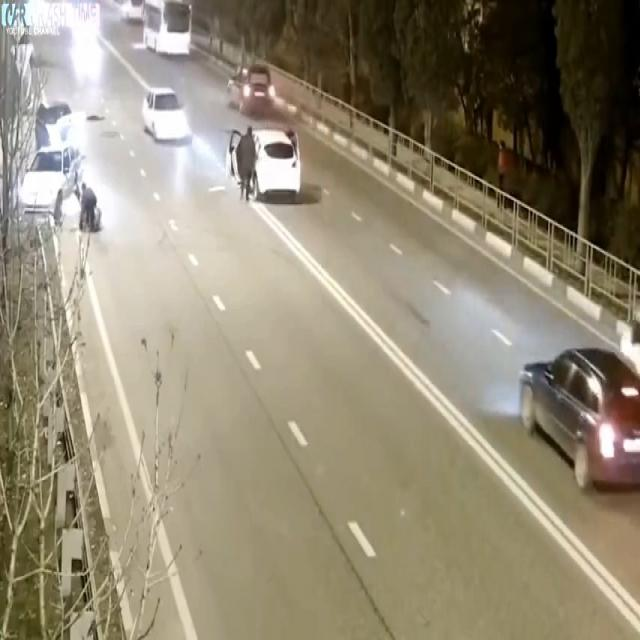Accident: (18, 94, 99, 210)
